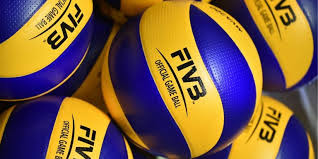ball: (101, 1, 264, 159)
